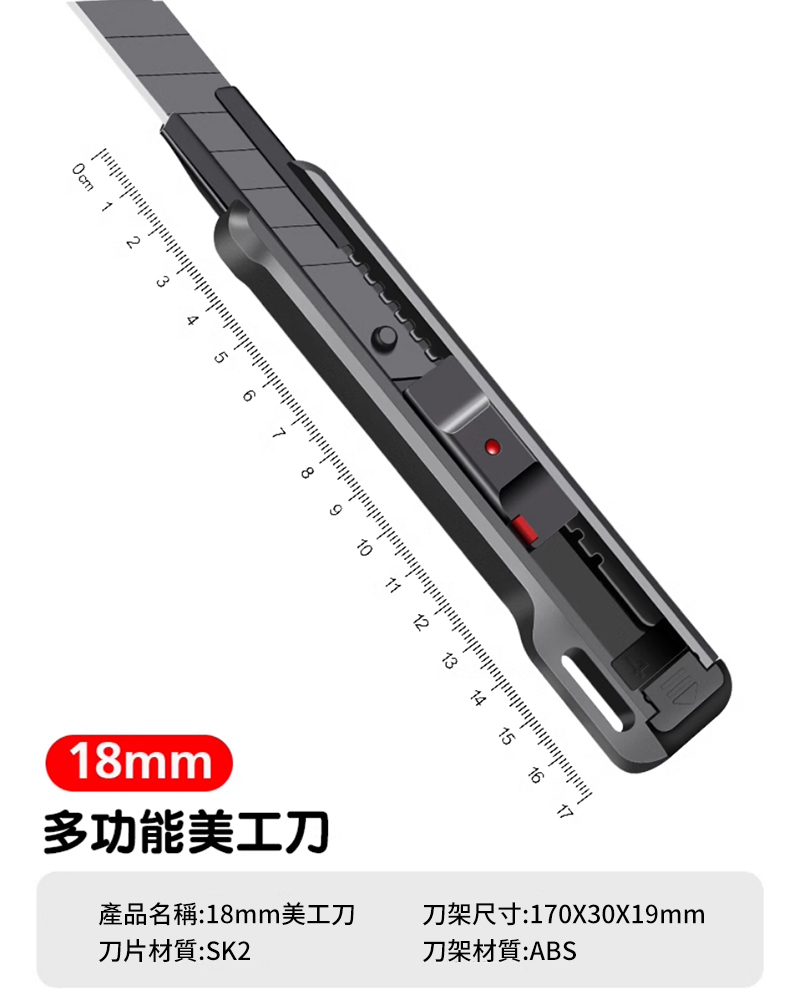cutter: (32, 1, 737, 775)
